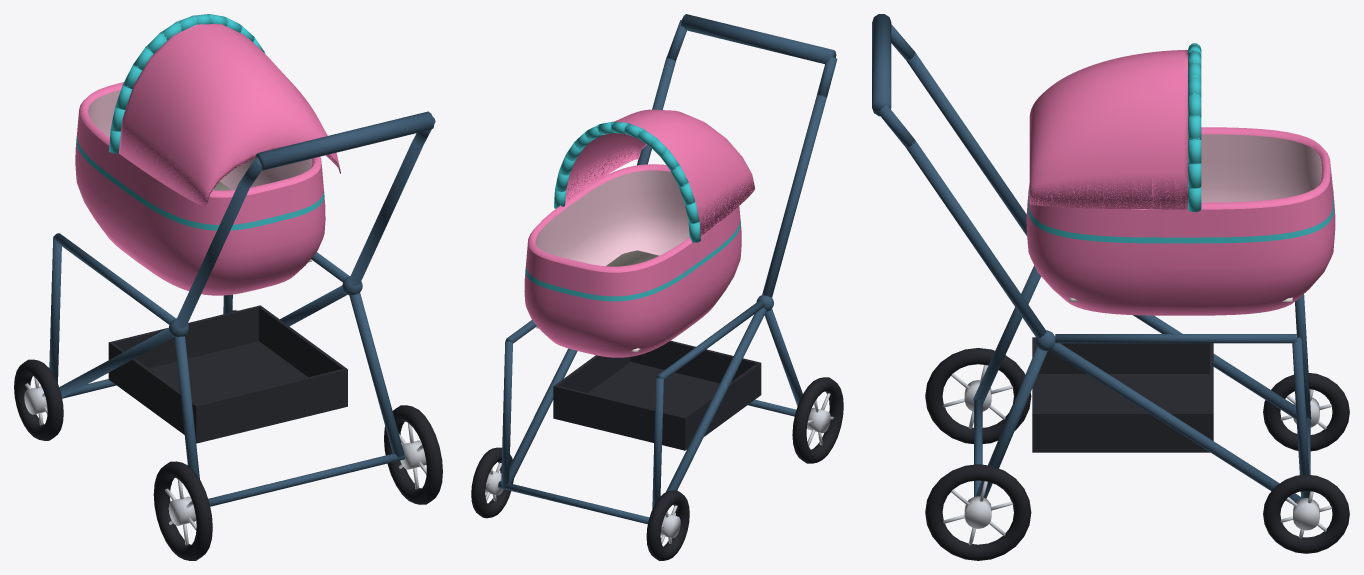
Rendered from carrinho_bebe.glb.
3 renders of one model, left to right at view 1: azimuth 30°, elevation 25°; view 2: azimuth 150°, elevation 25°; view 3: azimuth 270°, elevation 25°, orthographic. The views are drawn at different scales.
Parts seen in each view (by area): view 1: carrinho_capota, carrinho_casca, carrinho_cesta, carrinho_armacao, carrinho_pneus, carrinho_friso, carrinho_cubos, carrinho_forro, carrinho_borda, carrinho_faixa; view 2: carrinho_casca, carrinho_armacao, carrinho_cesta, carrinho_forro, carrinho_capota, carrinho_pneus, carrinho_friso, carrinho_borda, carrinho_cubos, carrinho_faixa, carrinho_colchao; view 3: carrinho_casca, carrinho_capota, carrinho_armacao, carrinho_cesta, carrinho_pneus, carrinho_forro, carrinho_cubos, carrinho_borda, carrinho_friso, carrinho_faixa.
Part boxes in pixels (x1,y1,x2,y2): carrinho_capota: (118, 24, 340, 206); carrinho_casca: (75, 110, 325, 295); carrinho_cesta: (108, 305, 347, 443); carrinho_armacao: (49, 111, 435, 506); carrinho_pneus: (14, 310, 442, 560); carrinho_friso: (109, 14, 265, 153); carrinho_cubos: (24, 377, 426, 545); carrinho_forro: (88, 90, 312, 190); carrinho_borda: (79, 82, 321, 197); carrinho_faixa: (76, 136, 324, 230); carrinho_casca: (524, 206, 741, 357); carrinho_armacao: (498, 14, 837, 524); carrinho_cesta: (553, 340, 761, 450); carrinho_forro: (535, 170, 689, 266); carrinho_capota: (565, 109, 755, 236); carrinho_pneus: (471, 377, 843, 560); carrinho_friso: (554, 121, 700, 242); carrinho_borda: (527, 164, 720, 272); carrinho_cubos: (485, 393, 833, 544); carrinho_faixa: (525, 219, 740, 301); carrinho_colchao: (536, 250, 729, 352); carrinho_casca: (1026, 164, 1335, 315); carrinho_capota: (1029, 50, 1187, 209); carrinho_armacao: (872, 14, 1311, 503); carrinho_cesta: (1032, 337, 1213, 452); carrinho_pneus: (925, 348, 1349, 560); carrinho_forro: (1201, 134, 1321, 202); carrinho_cubos: (943, 365, 1331, 545); carrinho_borda: (1131, 127, 1330, 209); carrinho_friso: (1188, 43, 1201, 211); carrinho_faixa: (1027, 189, 1334, 243).
Bounding box in the file's own units: 0.61 × 1.03 × 0.99.
